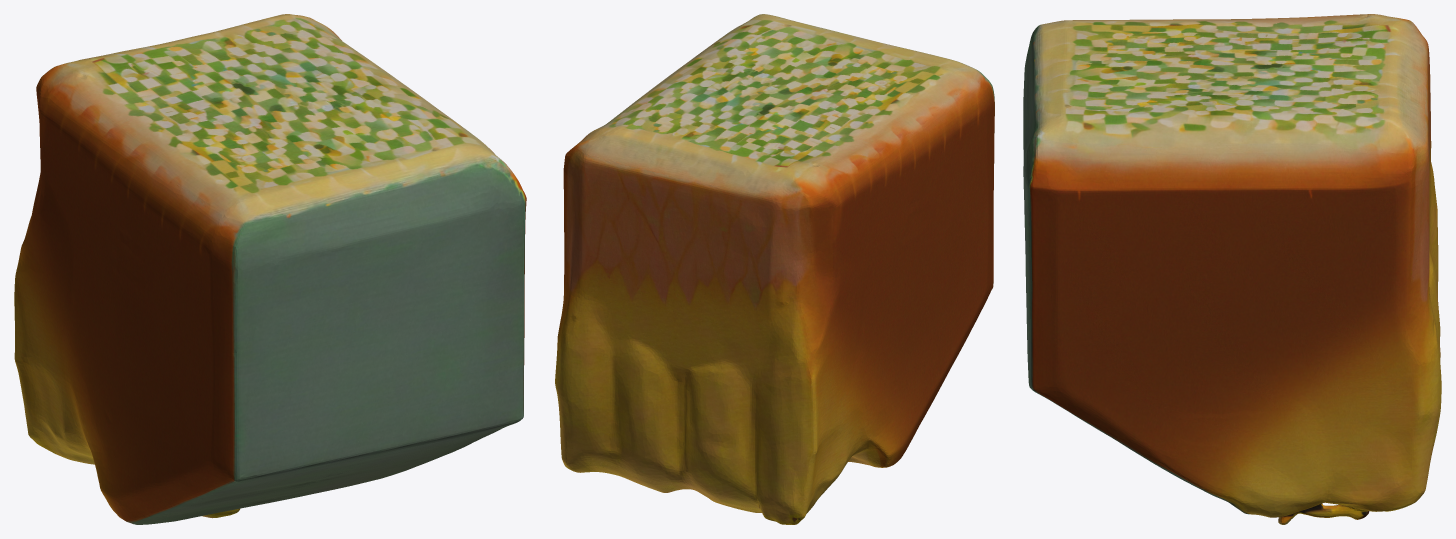
File: image_0001_segmented.glb
The picture shows the model from 3 angles, left to right: view 1: azimuth 30°, elevation 25°; view 2: azimuth 150°, elevation 25°; view 3: azimuth 270°, elevation 25°; orthographic projection. The views are drawn at different scales.
Parts seen in each view (by area): view 1: tmpamh_v09i.ply; view 2: tmpamh_v09i.ply; view 3: tmpamh_v09i.ply.
Part boxes in pixels (<box>): tmpamh_v09i.ply: <box>14,14,526,524</box>; tmpamh_v09i.ply: <box>555,14,994,524</box>; tmpamh_v09i.ply: <box>1023,14,1441,524</box>.
Bounding box in the file's own units: 0.9829 × 1.26 × 1.21.
Materials: 1 (1 with a texture image).
